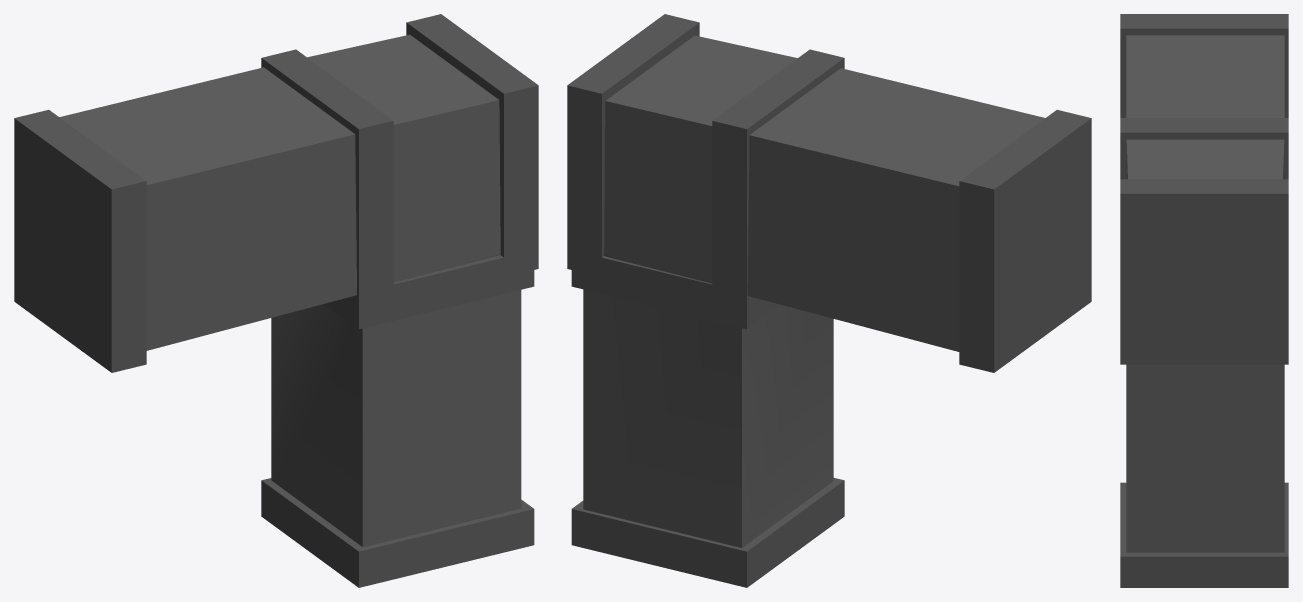
Rendered from Vent_2_B_6.fbx.
The picture shows the model from 3 angles, left to right: view 1: azimuth 30°, elevation 25°; view 2: azimuth 150°, elevation 25°; view 3: azimuth 270°, elevation 25°; orthographic projection. The views are drawn at different scales.
Parts seen in each view (by area): view 1: Vent_2_B_6; view 2: Vent_2_B_6; view 3: Vent_2_B_6.
Part boxes in pixels (x1,y1,x2,y2): Vent_2_B_6: (14, 14, 538, 587); Vent_2_B_6: (567, 14, 1091, 587); Vent_2_B_6: (1120, 14, 1288, 587).
Size of the model in its own units: 90.02 by 92.44 by 35.62.
